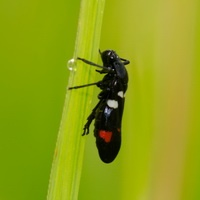insect: (68, 50, 129, 162)
